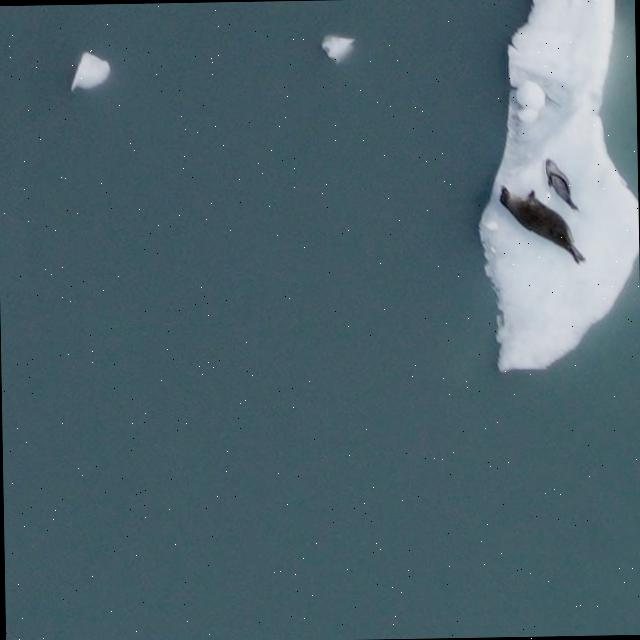seal: (497, 187, 584, 263), (547, 161, 575, 207)
